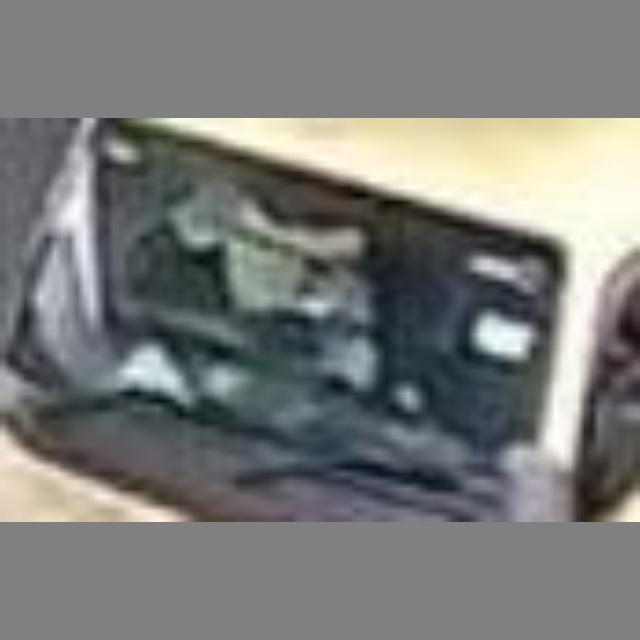tidak-pakai: (132, 184, 390, 368)
